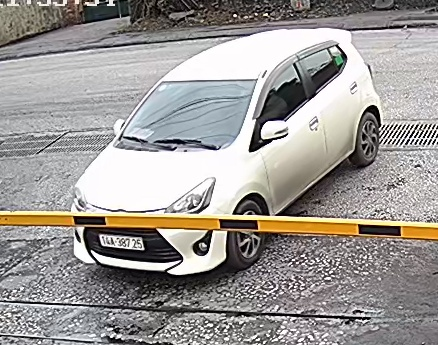vehicle plate: (99, 230, 144, 252)
